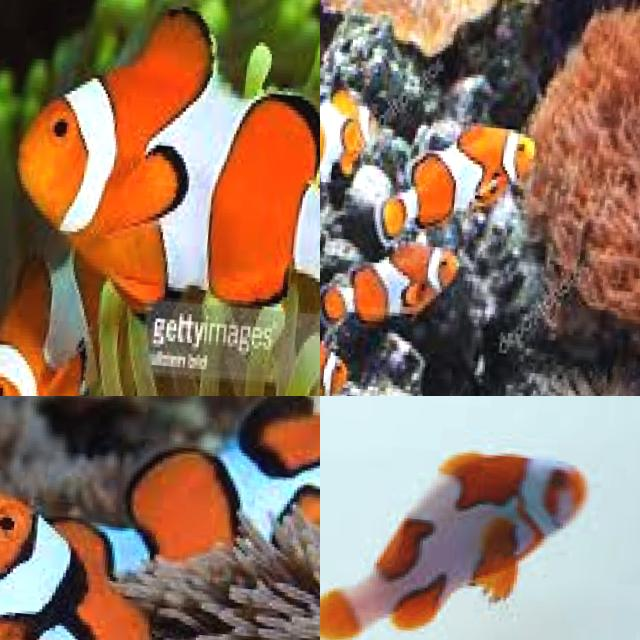Amphiprion-percula: (0, 0, 320, 342), (320, 415, 629, 640), (70, 396, 320, 640), (0, 417, 224, 640), (382, 115, 576, 268), (0, 242, 188, 396), (320, 440, 439, 640), (320, 222, 498, 355), (320, 219, 414, 396), (320, 88, 400, 238), (320, 41, 397, 193), (320, 311, 421, 396)
